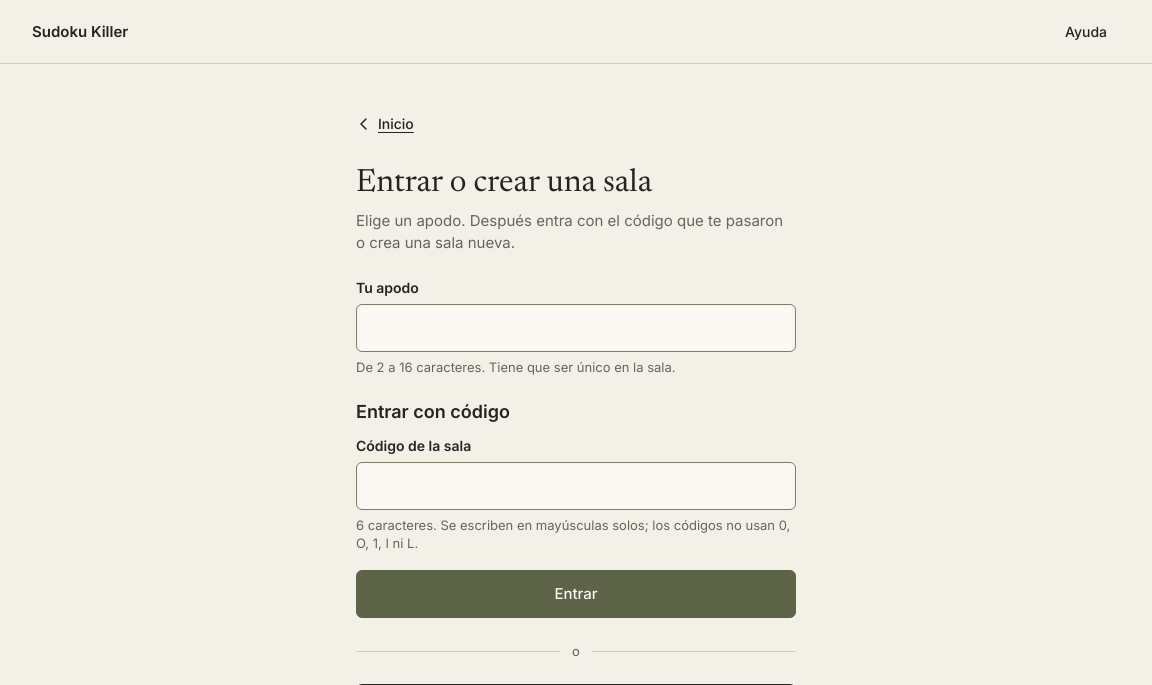
Scenario: F10e Entrar o crear (pantallas.md §1.2) › while entering, the fields are inactive and the form is busy
Type "Inés" into the field labelled "Tu apodo".
click(576, 328); type("Inés")  # box [356,304,796,352]
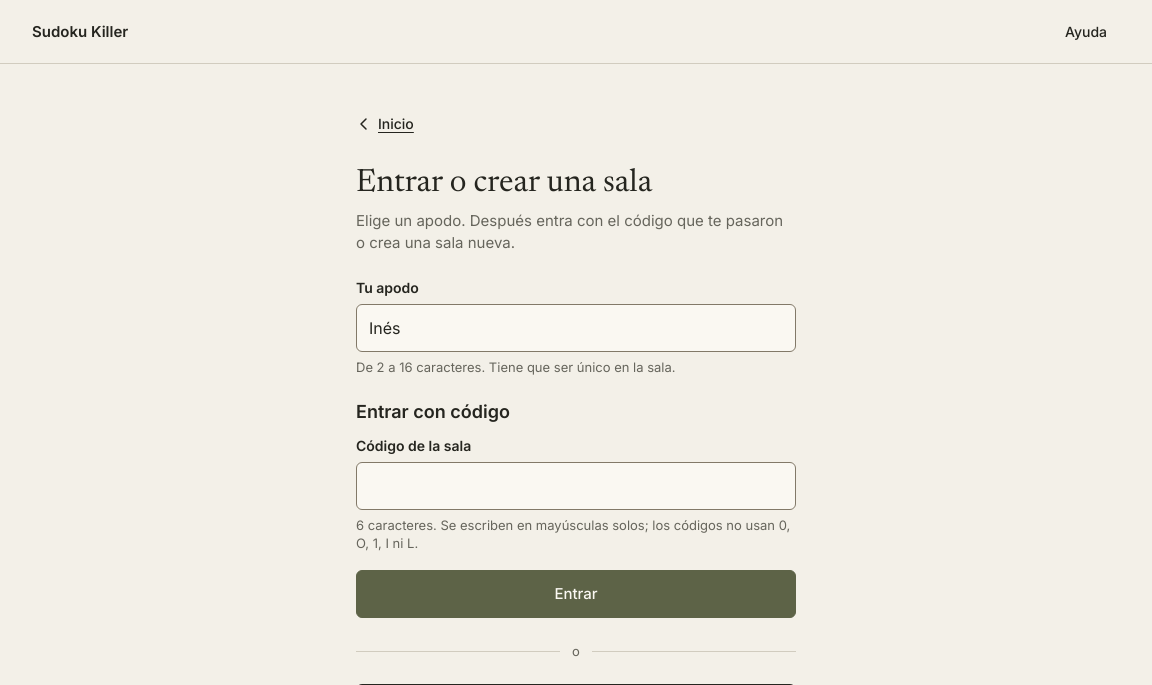
Type "HPQ6NZ" into the field labelled "Código de la sala".
click(576, 486); type("HPQ6NZ")  # box [356,462,796,510]
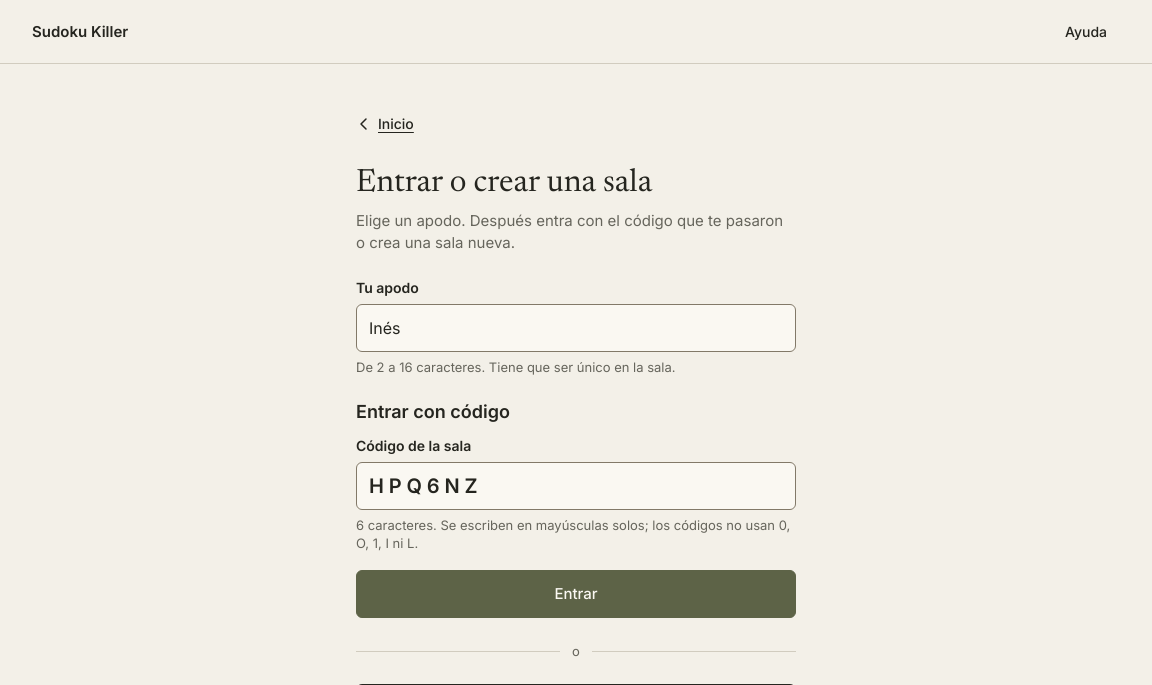
Click the button "Entrar".
click(576, 594)  # box [356,570,796,618]
(page scrolled)
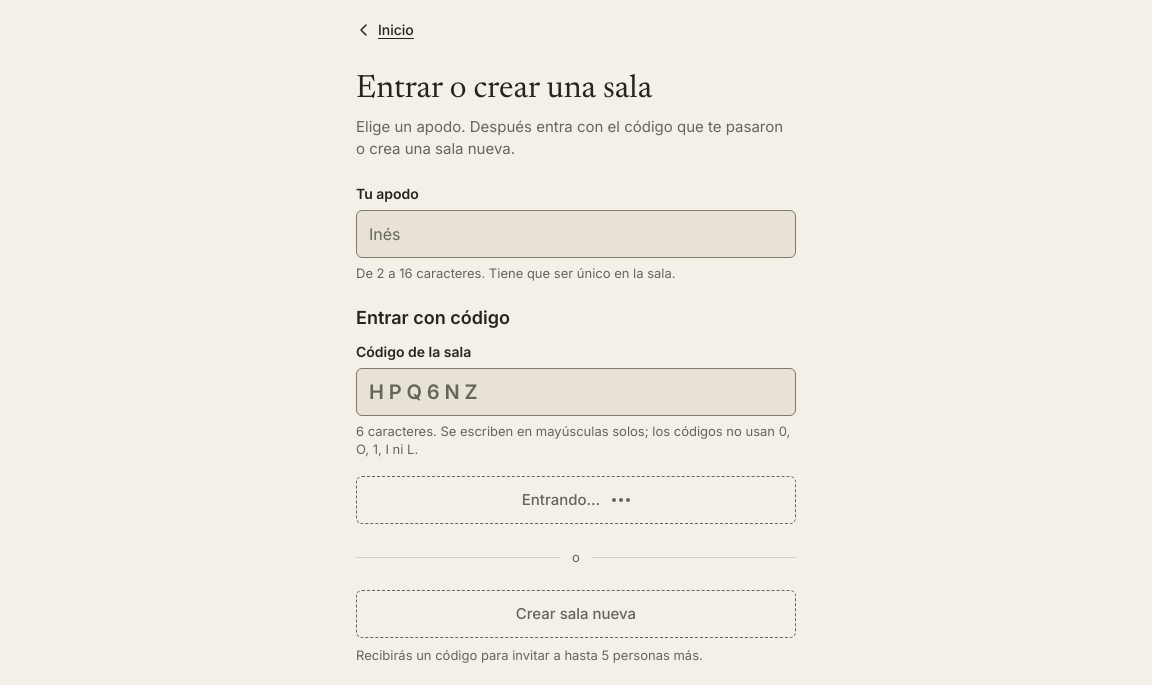
Result: the field labelled "Tu apodo" is disabled at [356,210,796,258]
Result: the button "Entrando…" is shown at [356,476,796,524]
